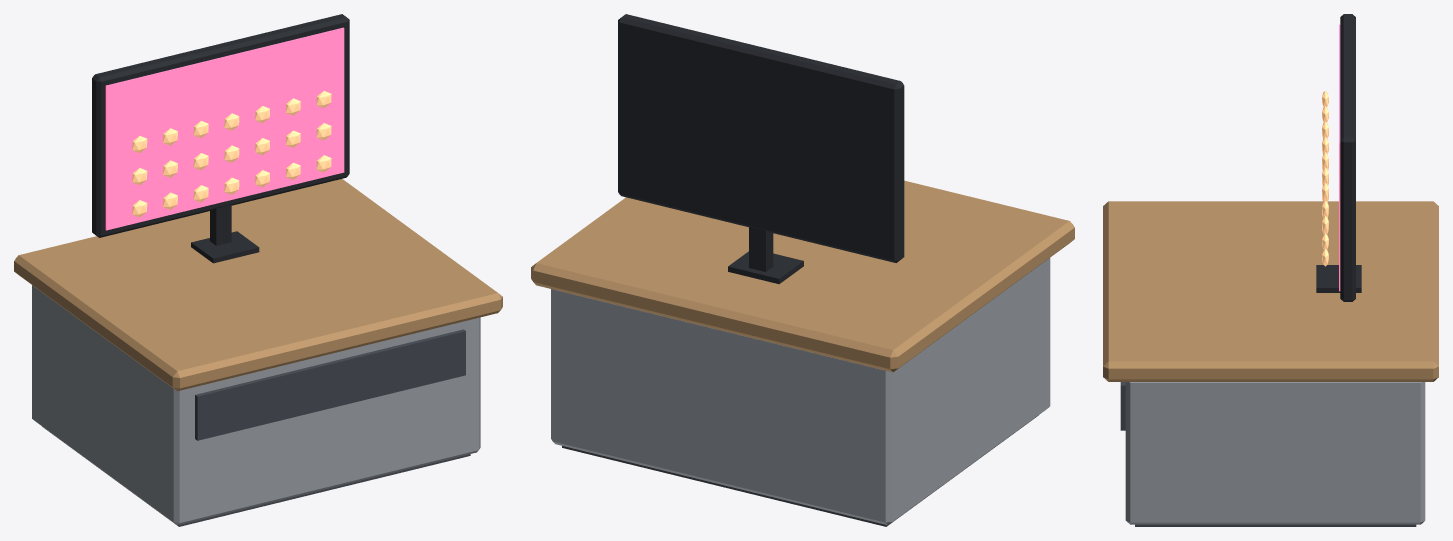
The model's file is replyall_p2_4.glb.
The picture shows the model from 3 angles, left to right: view 1: azimuth 30°, elevation 25°; view 2: azimuth 150°, elevation 25°; view 3: azimuth 270°, elevation 25°; orthographic projection. The views are drawn at different scales.
Parts seen in each view (by area): view 1: replyall_p2_4_mesh_Desk, replyall_p2_4_mesh; view 2: replyall_p2_4_mesh_Desk, replyall_p2_4_mesh; view 3: replyall_p2_4_mesh_Desk, replyall_p2_4_mesh.
Boxes of the visible parts, <box> form: replyall_p2_4_mesh_Desk: <box>14,179,502,526</box>; replyall_p2_4_mesh: <box>92,14,349,263</box>; replyall_p2_4_mesh_Desk: <box>531,180,1074,526</box>; replyall_p2_4_mesh: <box>618,14,904,284</box>; replyall_p2_4_mesh_Desk: <box>1103,201,1438,526</box>; replyall_p2_4_mesh: <box>1316,14,1361,301</box>.
Size of the model in its own units: 0.86 by 0.92 by 0.74.
